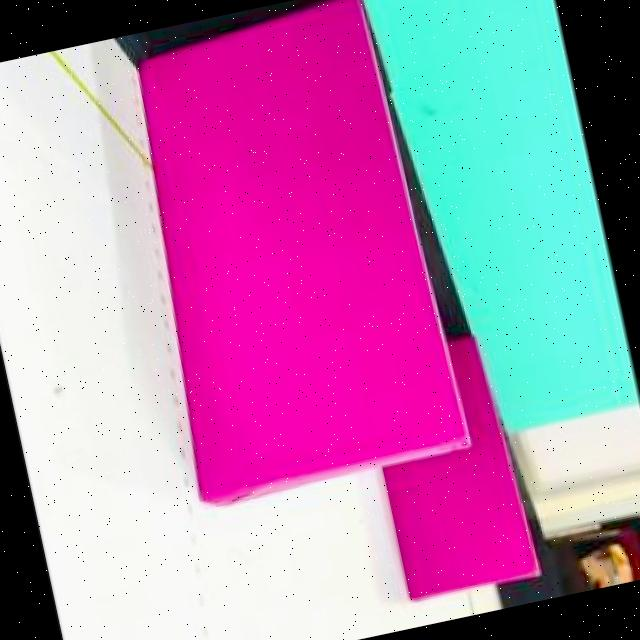xparking: (136, 0, 461, 495), (382, 440, 530, 598)
